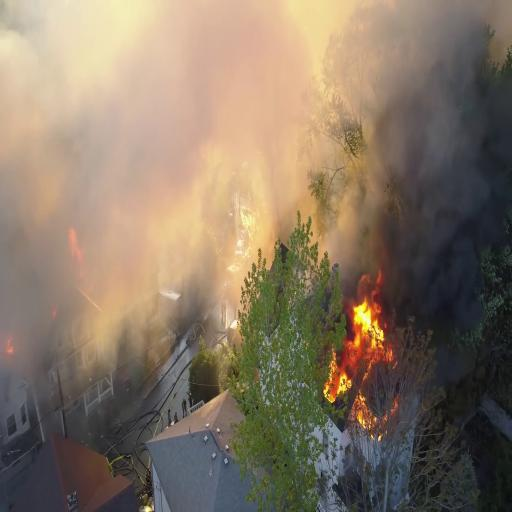fire: (332, 281, 385, 396)
smoke: (394, 10, 508, 303)
